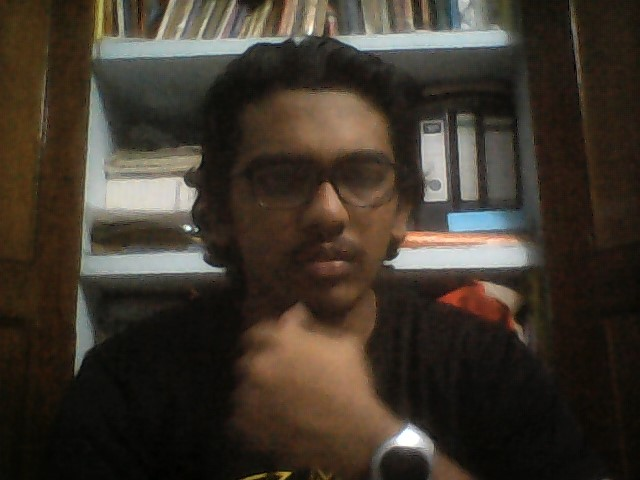person: (82, 31, 500, 477)
smartwatch: (353, 417, 445, 480)
